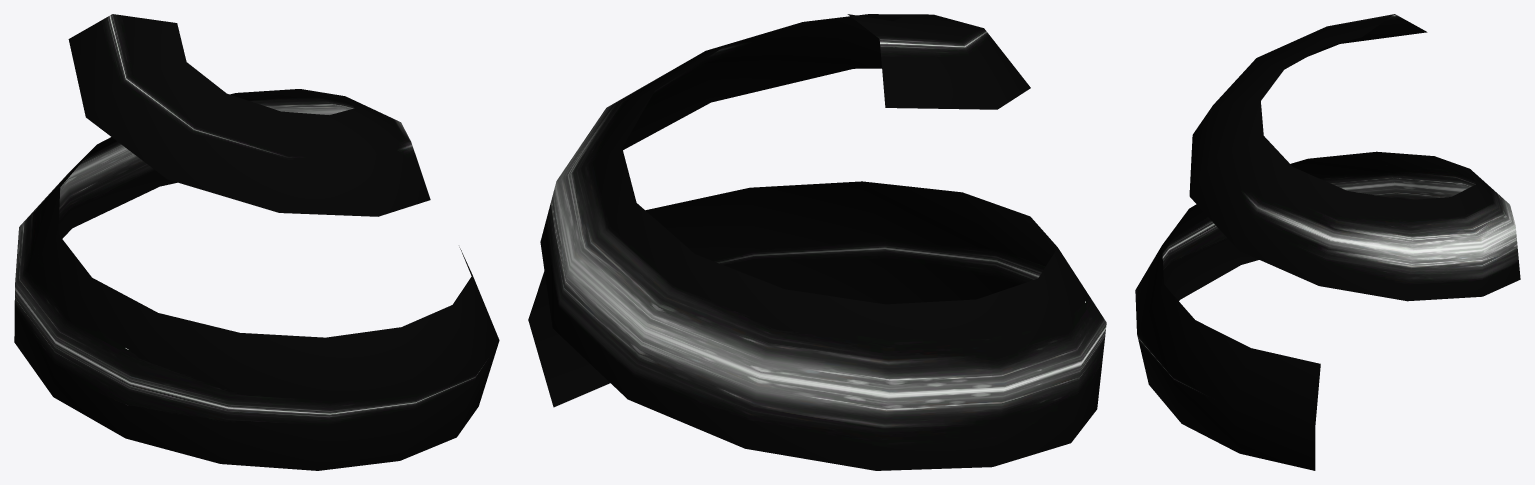
Rendered from FX_luoxuanpian_UV_001.FBX.
3 renders of one model, left to right at view 1: azimuth 30°, elevation 25°; view 2: azimuth 150°, elevation 25°; view 3: azimuth 270°, elevation 25°, orthographic. The views are drawn at different scales.
Parts seen in each view (by area): view 1: FX_luoxuanpian_UV_001; view 2: FX_luoxuanpian_UV_001; view 3: FX_luoxuanpian_UV_001.
Boxes of the visible parts, <box> form: FX_luoxuanpian_UV_001: <box>14,14,499,470</box>; FX_luoxuanpian_UV_001: <box>528,14,1106,470</box>; FX_luoxuanpian_UV_001: <box>1135,14,1520,470</box>.
Bounding box in the file's own units: 3.05 × 2.69 × 2.82.
